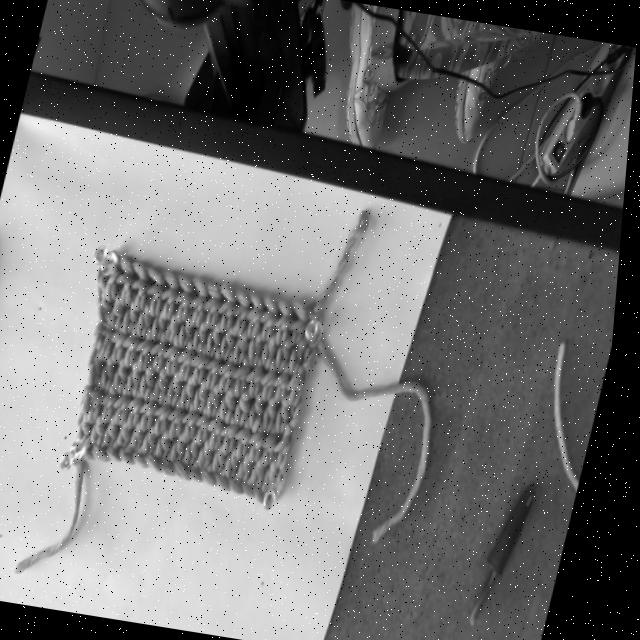ch: (150, 452, 170, 472), (97, 444, 118, 463), (180, 461, 198, 481), (220, 472, 240, 490), (163, 458, 183, 475), (232, 476, 251, 493), (207, 467, 224, 485), (139, 452, 154, 468), (127, 447, 142, 463), (248, 482, 263, 497), (258, 485, 272, 501), (193, 466, 210, 479), (114, 444, 127, 460)
hdc: (148, 265, 171, 316), (165, 268, 185, 319), (206, 281, 227, 329), (134, 260, 154, 310), (250, 291, 269, 341), (195, 276, 213, 328), (264, 294, 283, 343), (282, 425, 303, 469), (293, 297, 312, 345), (278, 298, 297, 345), (222, 284, 240, 333), (236, 287, 254, 336), (196, 341, 216, 384), (237, 352, 256, 397), (121, 256, 138, 306), (154, 330, 174, 372), (251, 355, 270, 399), (223, 348, 241, 394), (128, 324, 147, 367), (265, 357, 283, 402), (169, 332, 187, 377), (180, 277, 197, 324), (293, 364, 312, 405), (88, 386, 109, 423), (141, 327, 159, 370), (146, 389, 164, 431), (189, 399, 206, 443), (255, 421, 273, 462), (242, 415, 259, 458), (183, 338, 200, 381), (278, 362, 296, 402), (174, 397, 191, 439), (214, 408, 231, 450), (211, 347, 228, 389), (295, 336, 312, 378), (200, 437, 220, 472), (161, 394, 178, 435), (227, 415, 245, 453), (116, 358, 133, 394), (108, 419, 128, 449), (269, 424, 284, 464), (130, 359, 146, 396), (143, 425, 162, 456), (241, 386, 256, 425), (226, 384, 241, 423), (188, 432, 205, 466), (132, 421, 150, 453), (133, 396, 151, 428), (256, 391, 270, 432), (120, 395, 139, 425), (159, 366, 174, 404), (281, 395, 296, 433), (141, 301, 156, 338), (281, 335, 296, 372), (202, 405, 216, 444), (241, 451, 258, 483), (174, 432, 192, 462), (269, 395, 283, 433), (173, 368, 187, 406), (268, 459, 284, 492), (228, 446, 245, 477), (127, 299, 142, 334), (116, 322, 129, 362), (146, 363, 160, 400), (212, 320, 226, 357), (255, 456, 271, 488), (160, 428, 177, 458), (120, 422, 137, 451), (226, 326, 240, 361), (239, 330, 253, 364), (115, 294, 128, 330), (200, 379, 214, 412), (184, 315, 198, 348), (214, 381, 227, 416), (254, 331, 267, 366), (97, 414, 111, 446), (110, 265, 122, 302), (187, 376, 200, 410), (93, 355, 108, 384), (107, 356, 119, 391), (198, 320, 211, 352), (104, 325, 116, 359), (268, 335, 280, 369), (108, 393, 121, 423), (170, 313, 183, 343), (158, 307, 170, 339), (220, 444, 232, 473), (105, 295, 117, 324)
